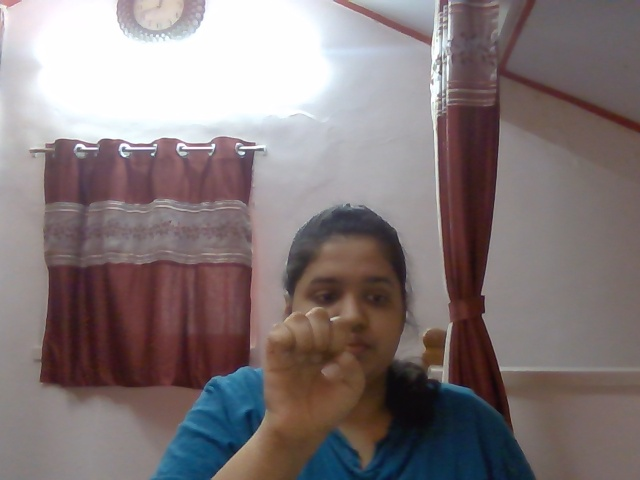s: (256, 299, 379, 435)
